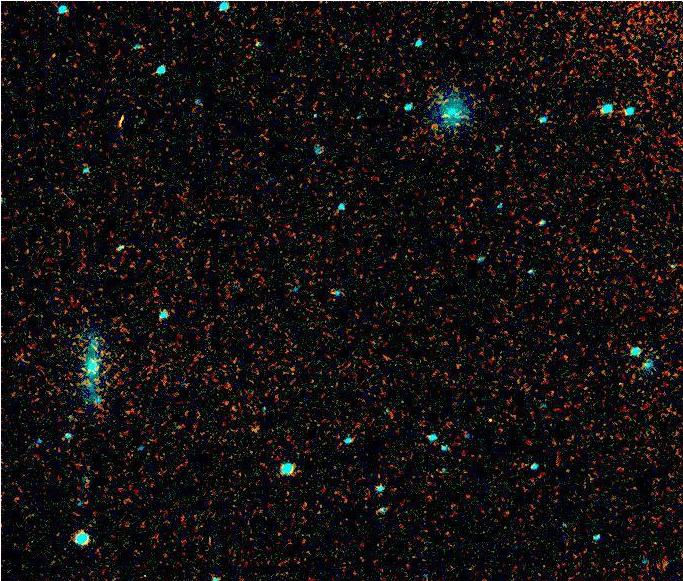star: (67, 356, 97, 386)
